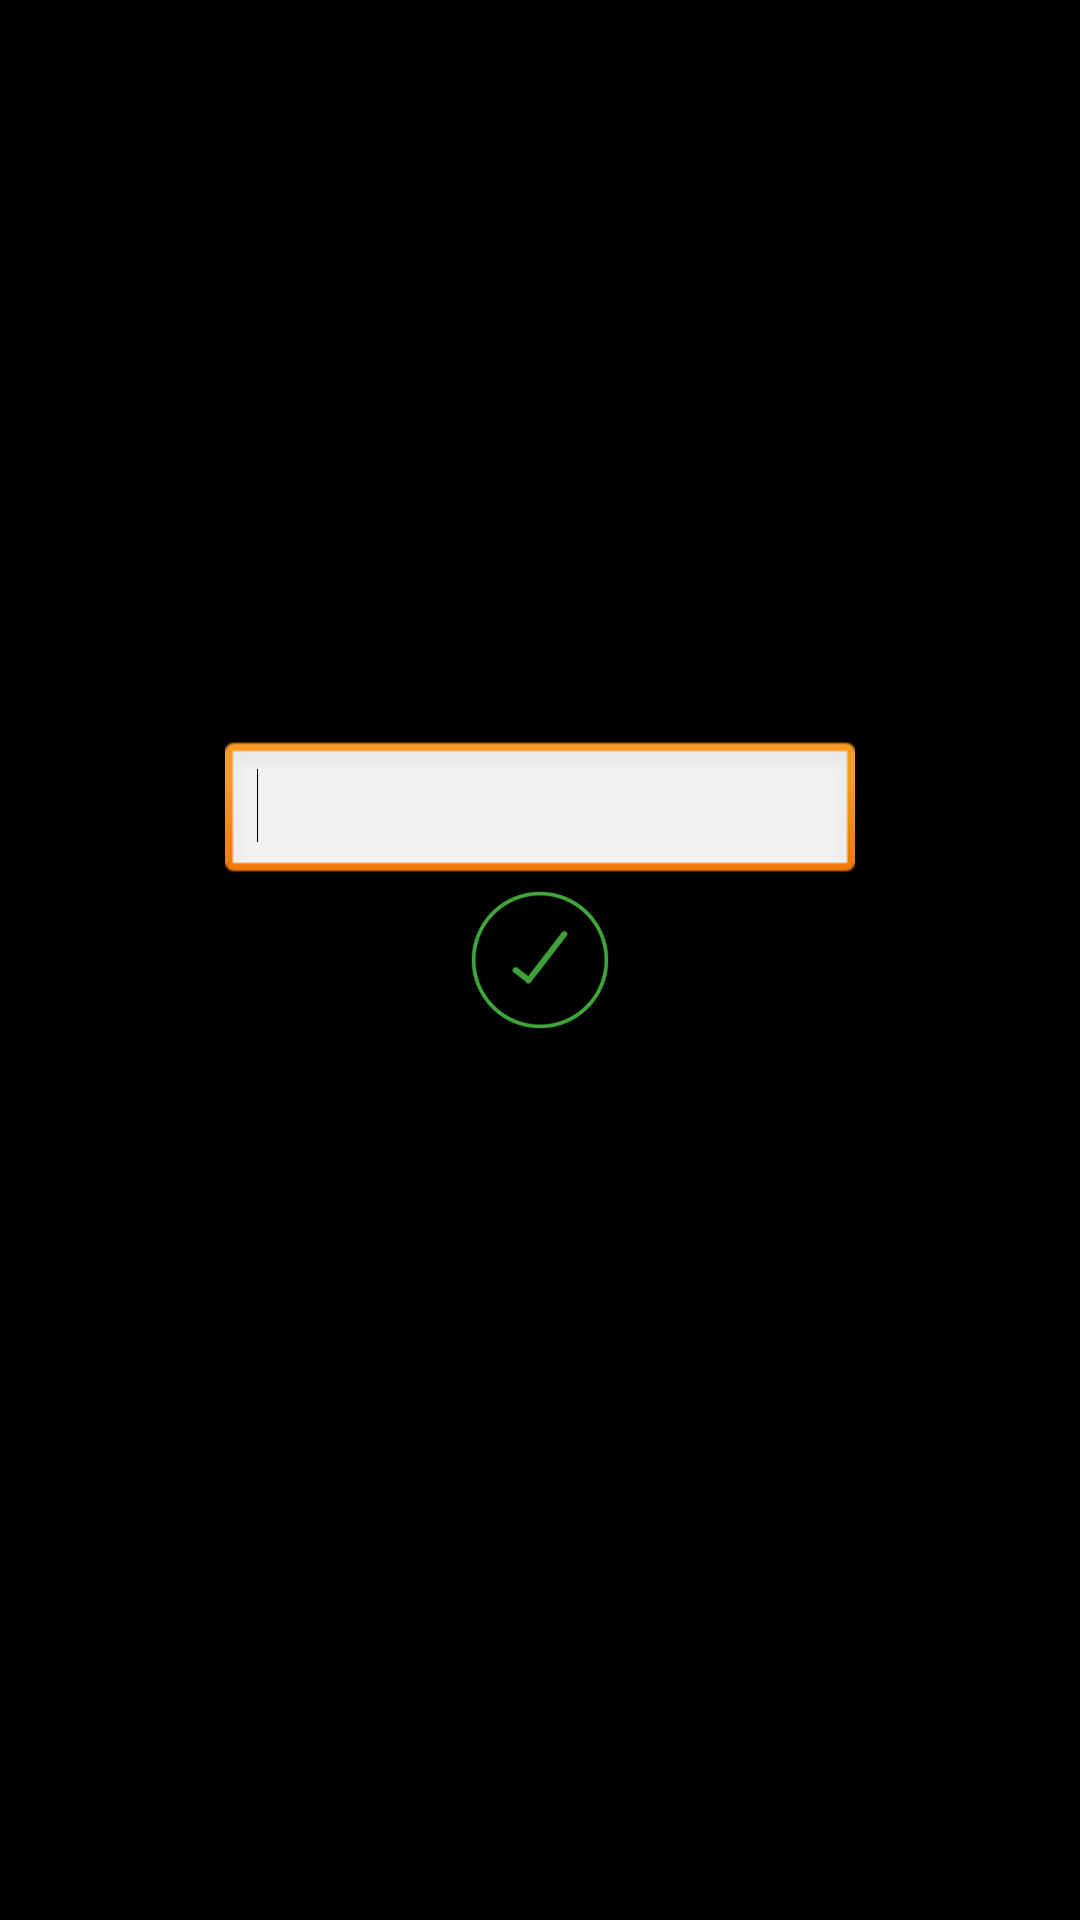

Named icons in this screenshot (1080px×1920px) and their centers, (x,y):
tick: (540,960)
